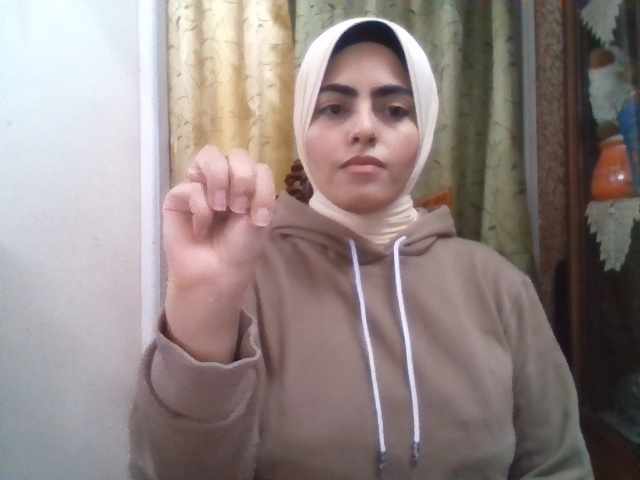M: (162, 145, 275, 296)
